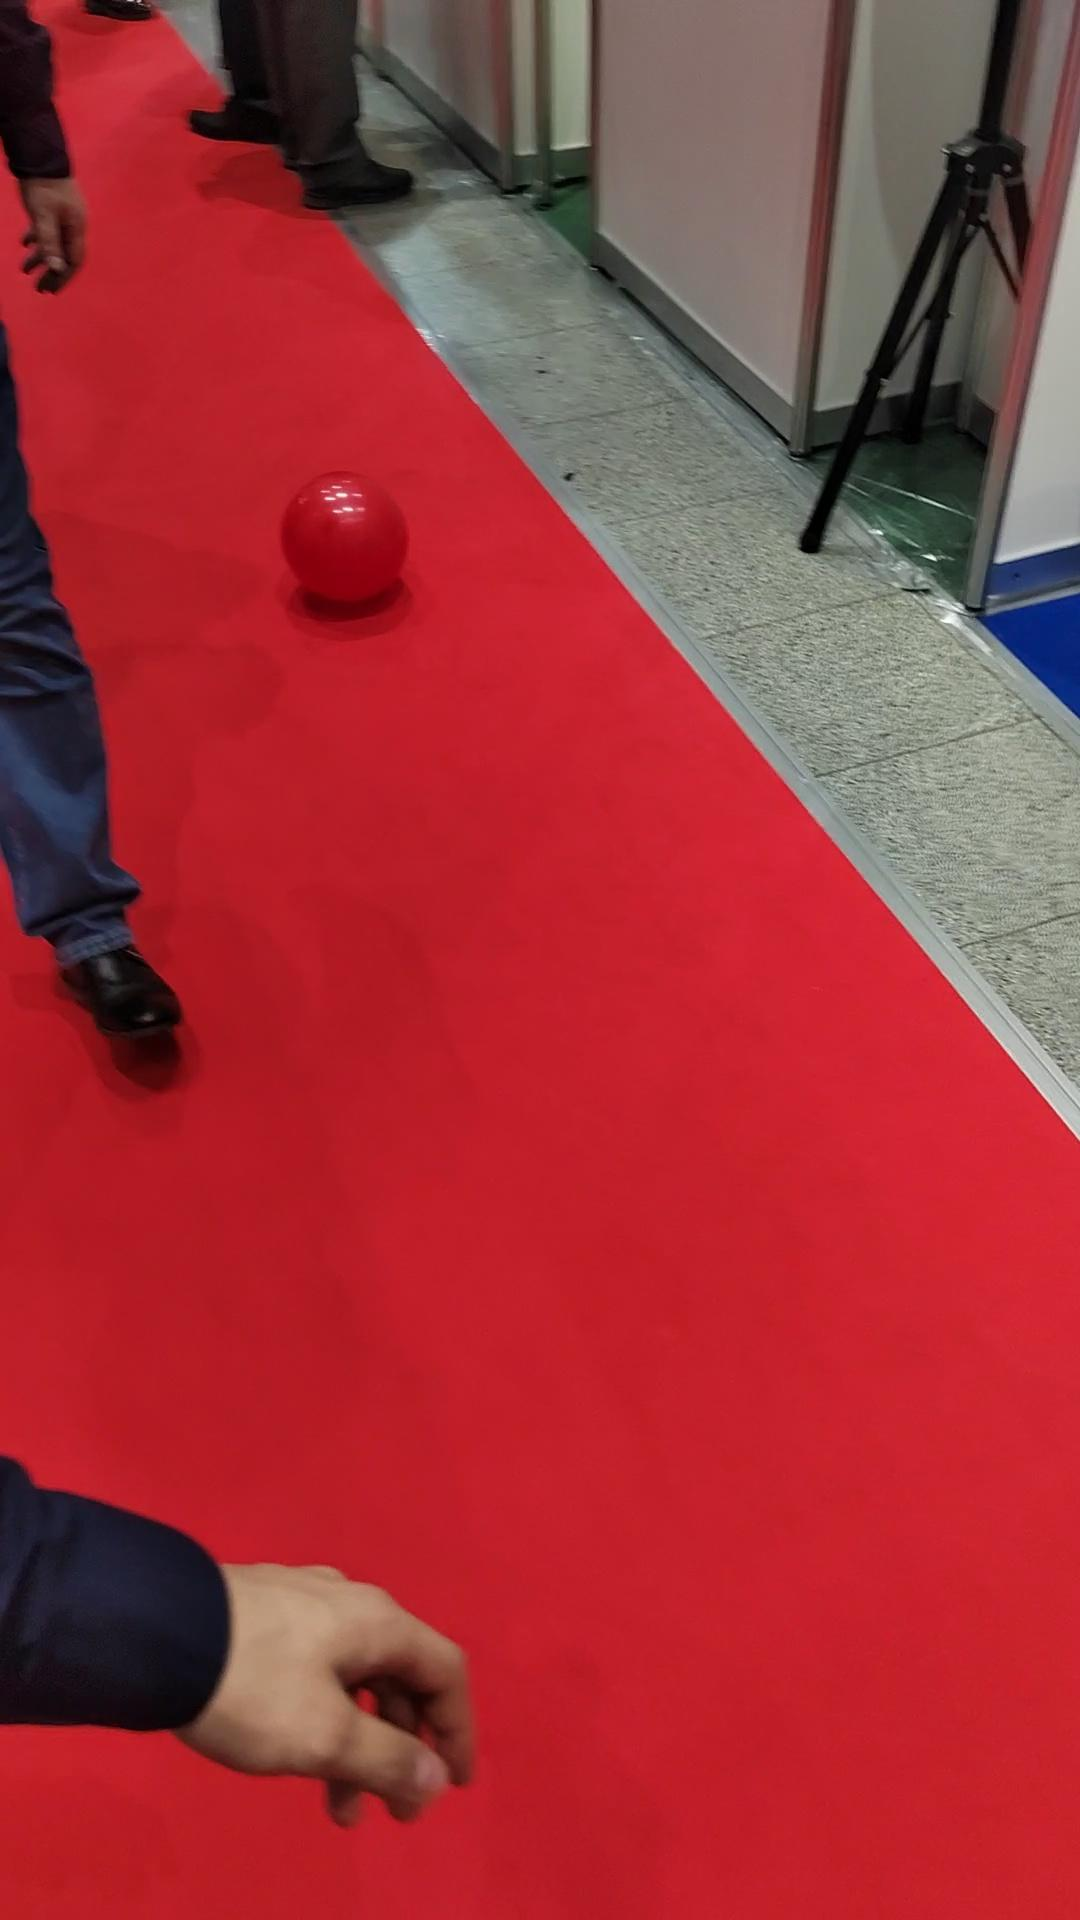red: (279, 470, 412, 604)
